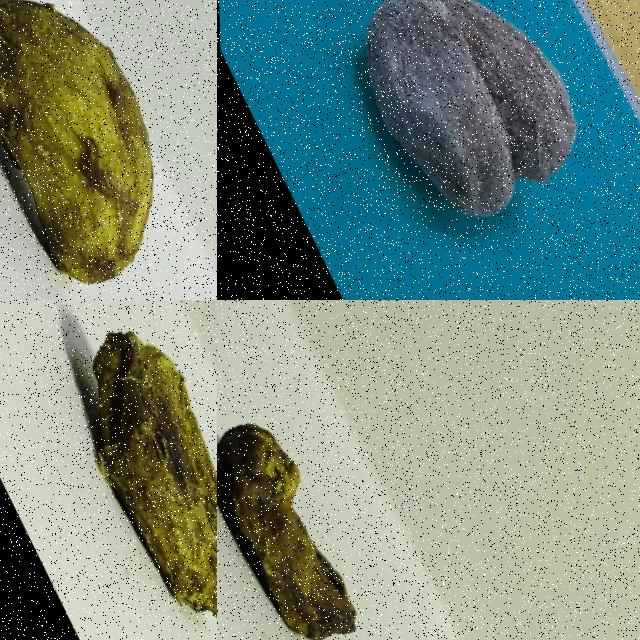Agglomerated_cocoabeans: (268, 0, 639, 299)
Fine_cocoabeans: (0, 0, 216, 299)
Flat_cocoabeans: (217, 300, 462, 639), (0, 300, 216, 639)
